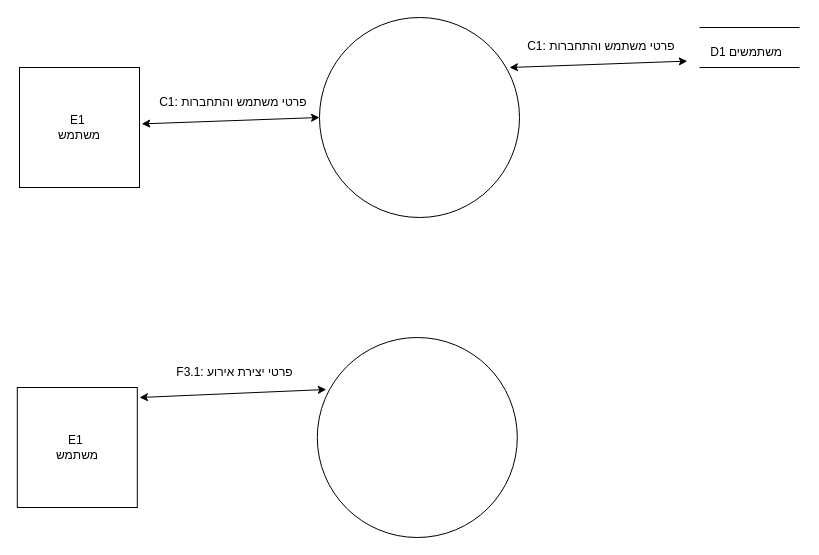
The diagram is 819 pixels wide and 555 high, and some of its shapes have lost their labels. Each missing label, with the centre of its shape:
P1 הרשמה, התחברות ועריכת פרופיל: (419,117)
P2 טיפול באירועים: (416,437)
